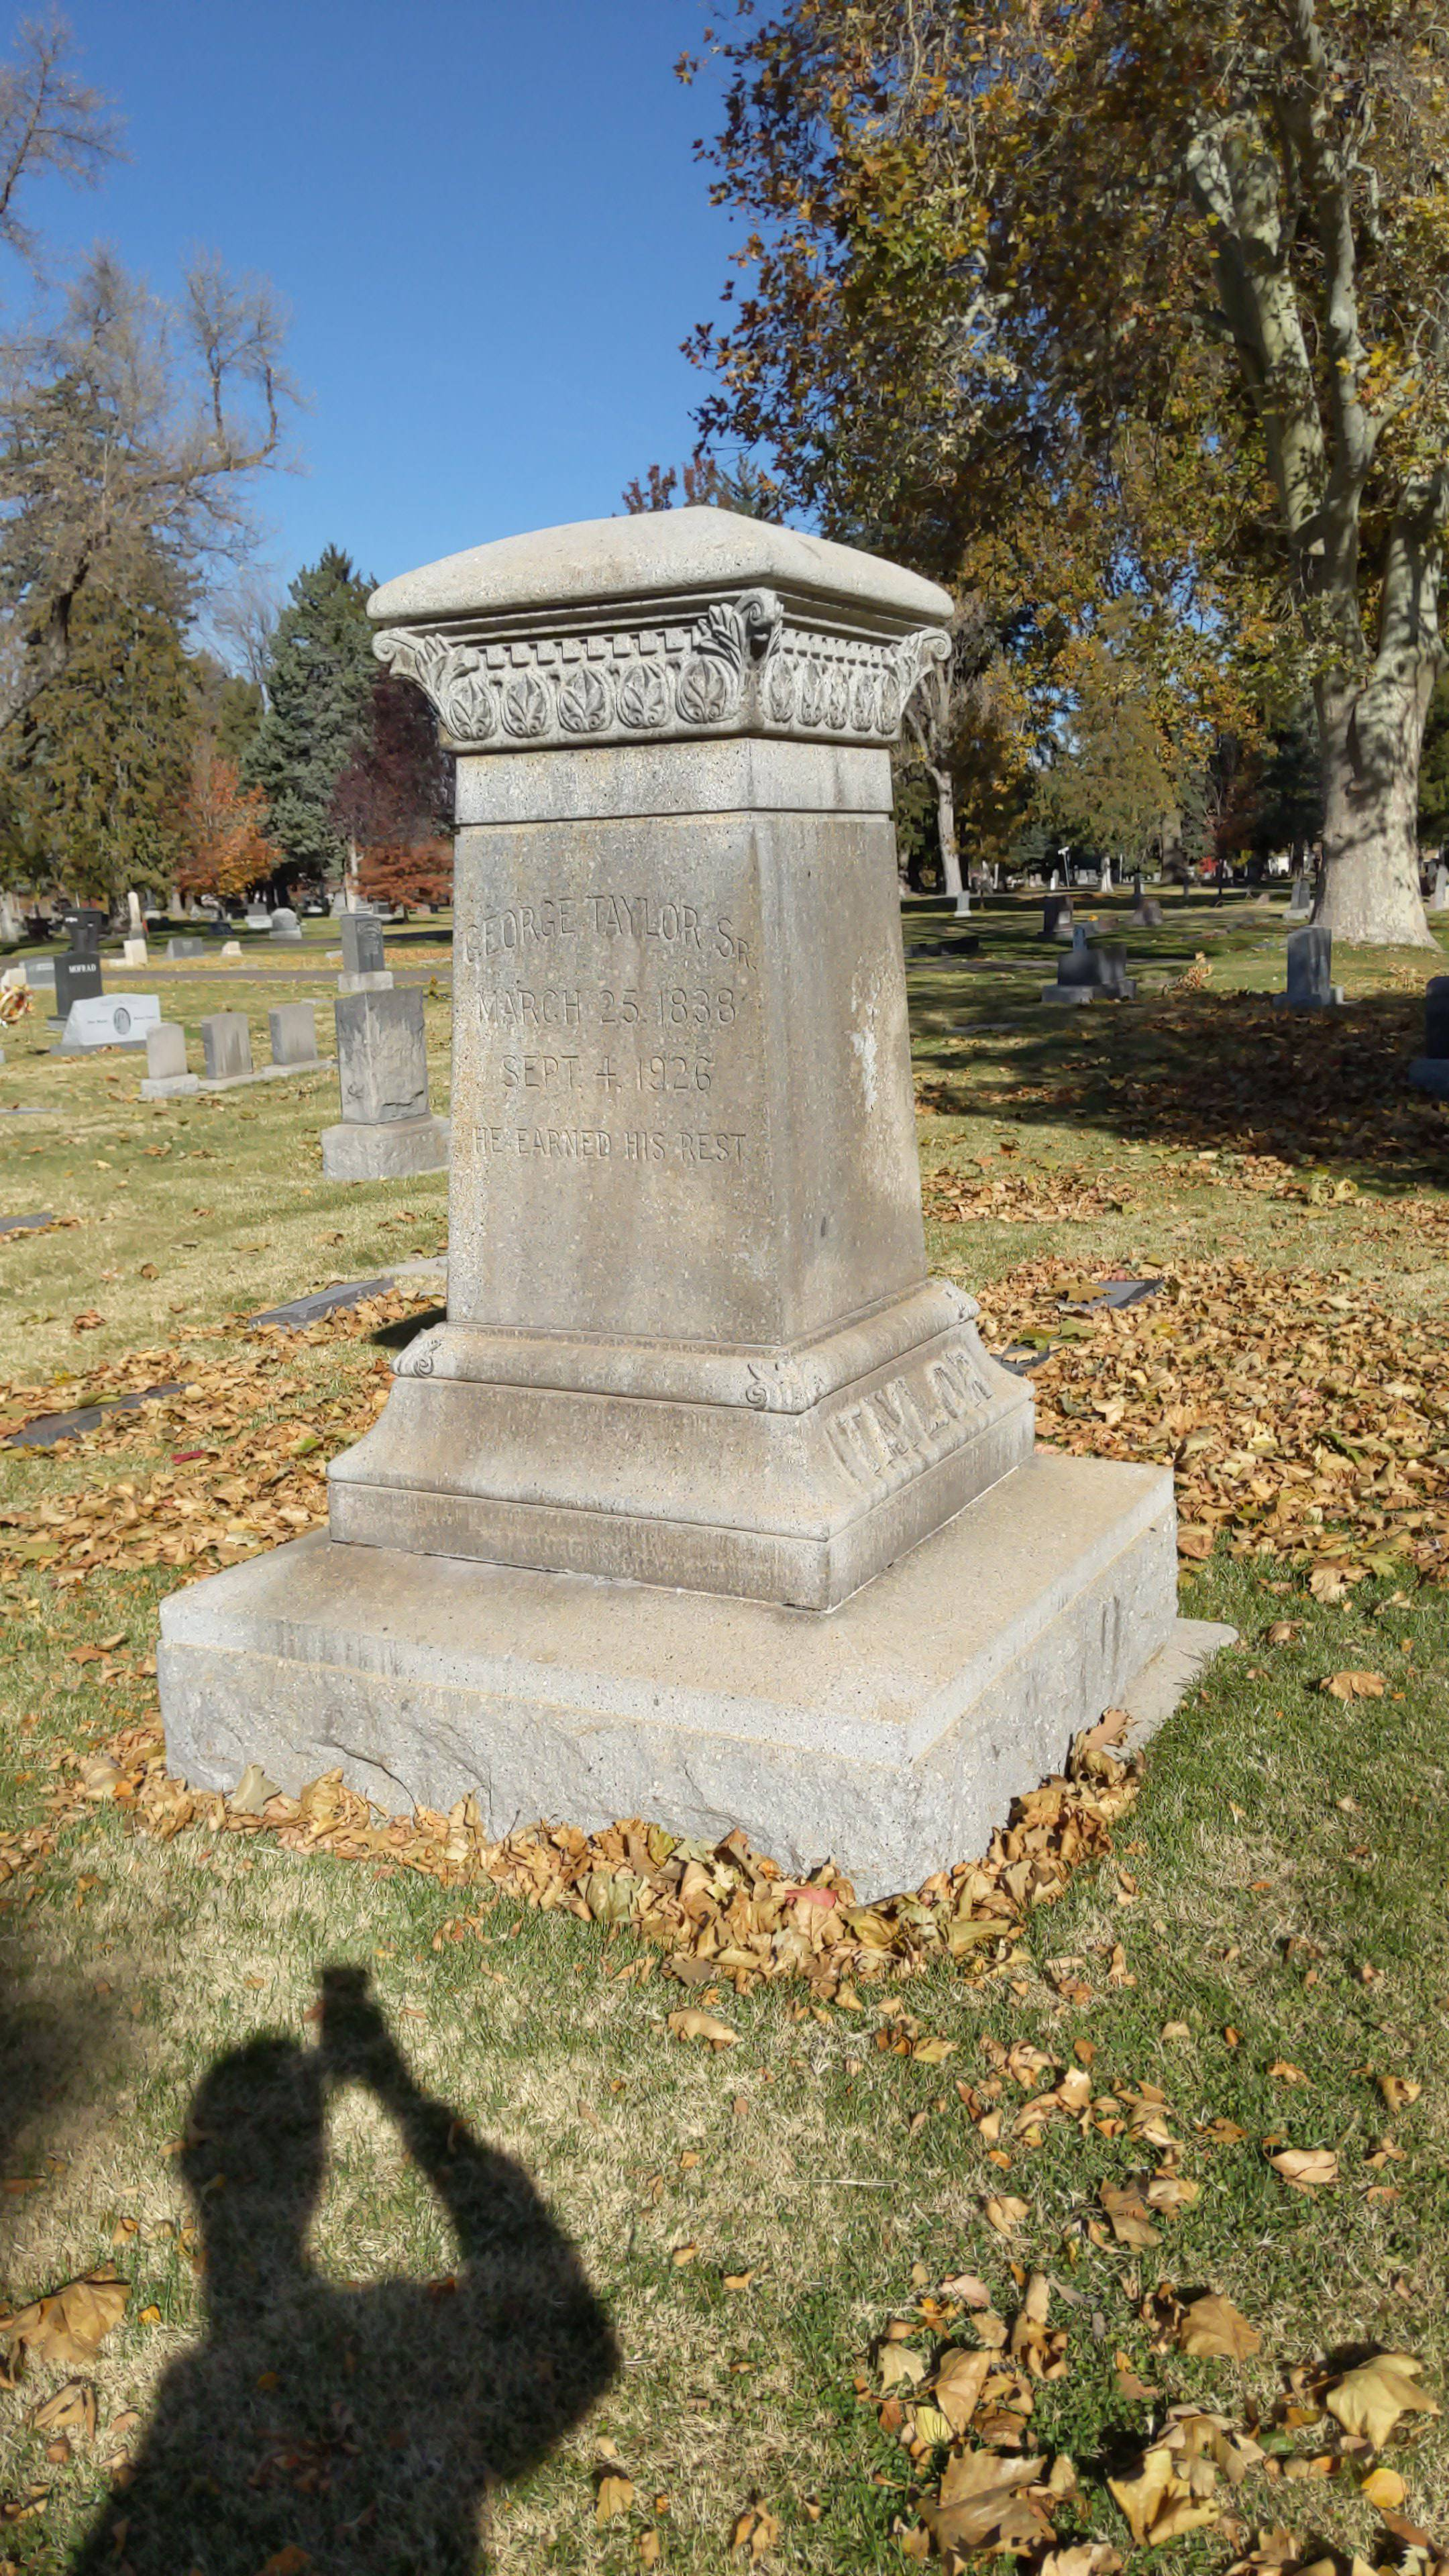obelisk: (372, 502, 1033, 1617)
